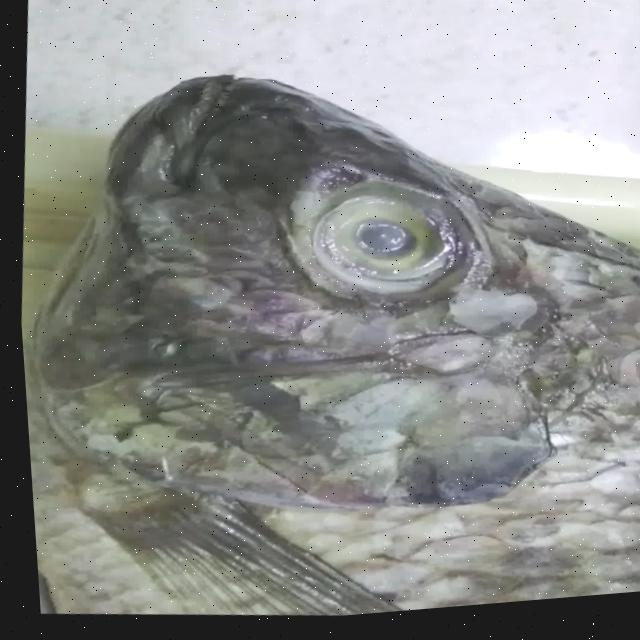Non-Fresh: (280, 168, 472, 316)
